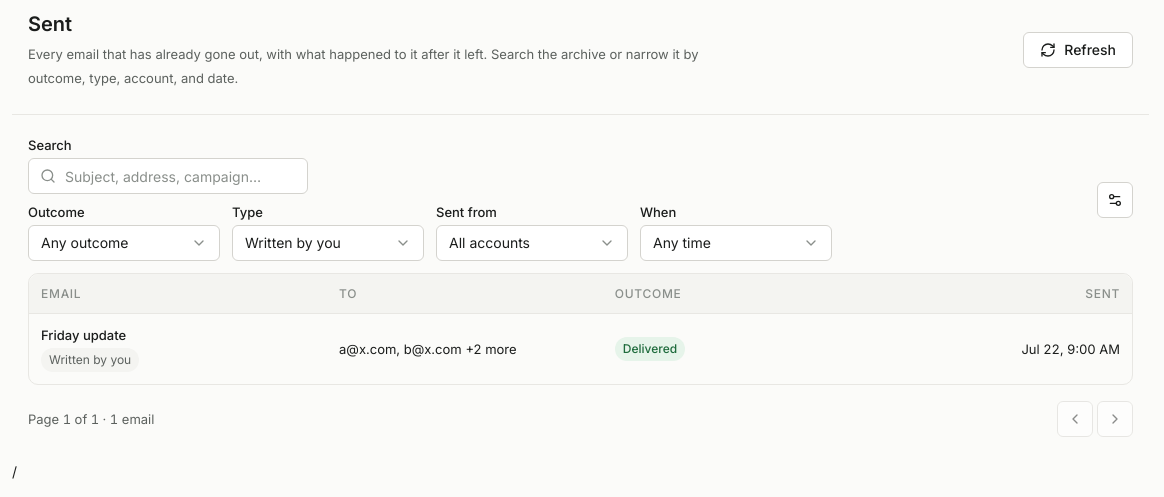
Sent › widens to every type on request, and says so in the URL
Expected: the text "Friday update" is shown, x1=41 y1=327 x2=126 y2=343
Click the dropdown named "Type" at [328, 243], box x1=232 y1=225 x2=424 y2=261
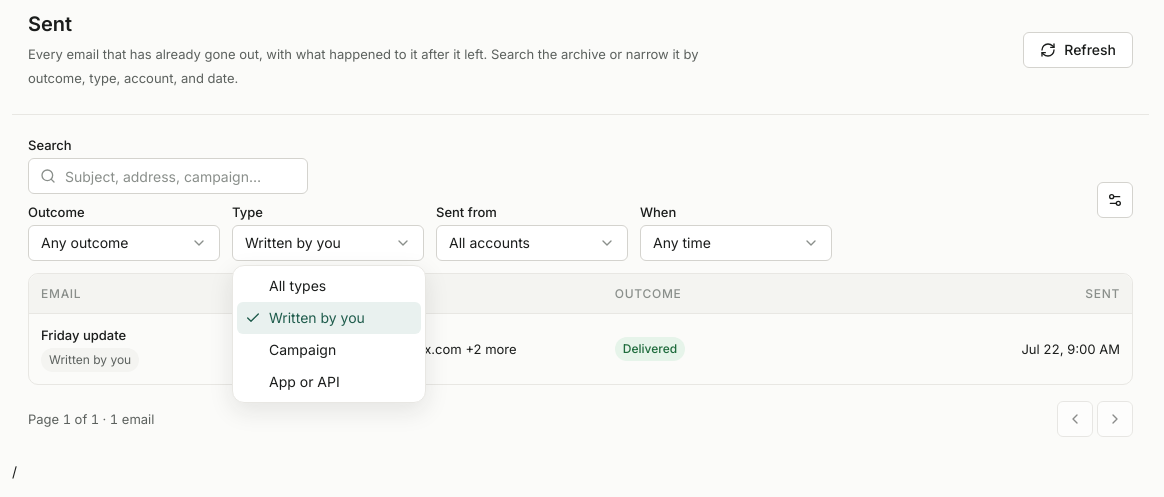
Click the option "All types" at [298, 286], box x1=269 y1=277 x2=326 y2=294
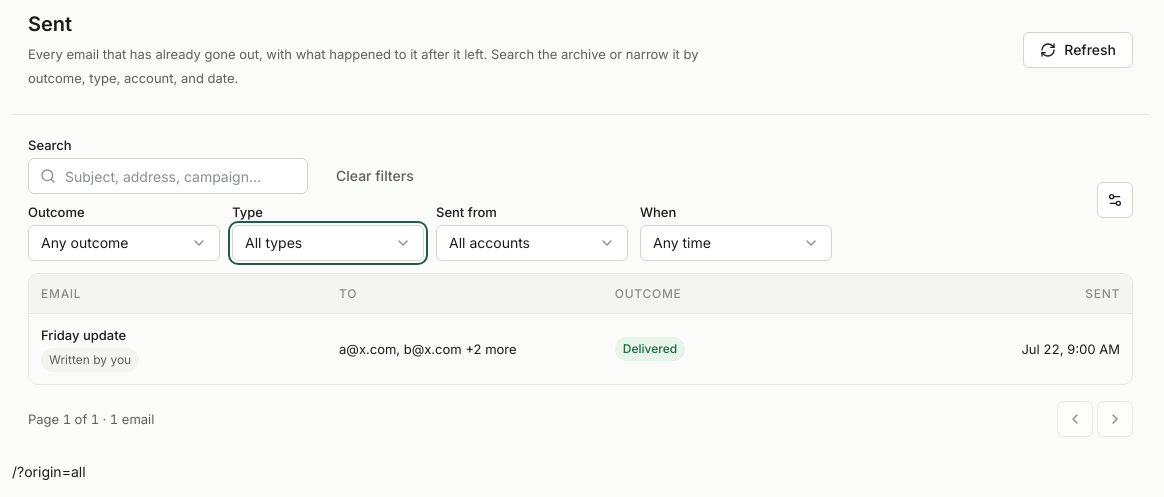
Now the text with test id "url" shows "origin=all", box x1=12 y1=463 x2=86 y2=480
